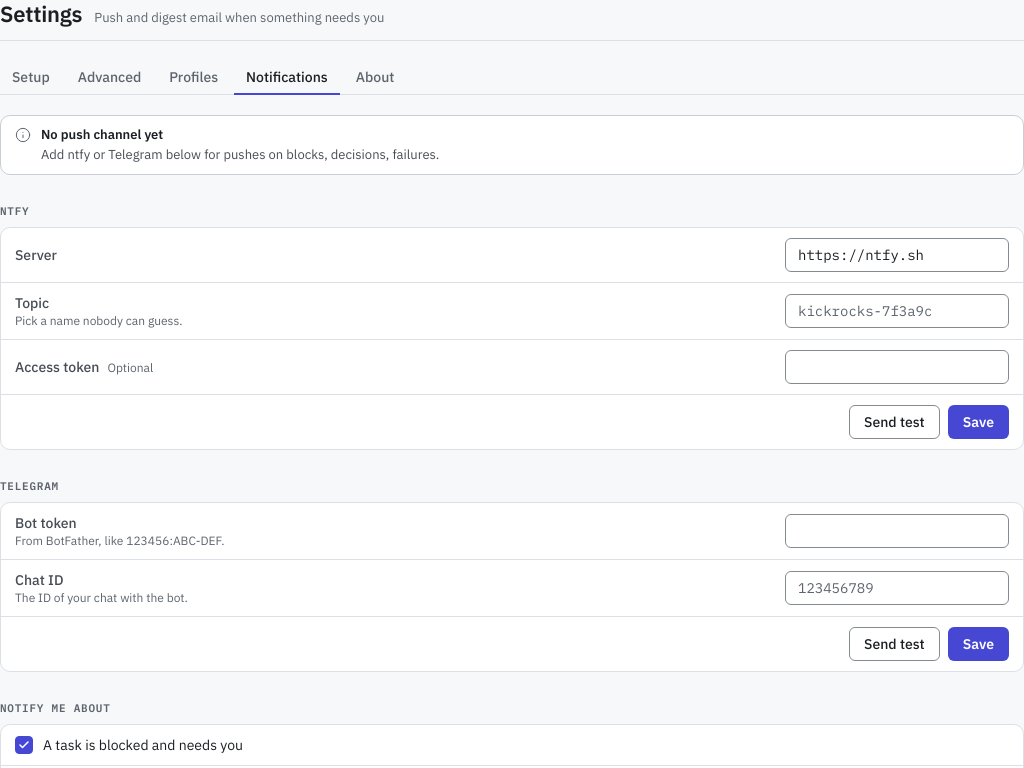
Test case: notification settings page › saves Telegram and checks the token shape first
Type "42" into the field labelled "Chat ID" at (897, 588), box [785, 571, 1009, 605]
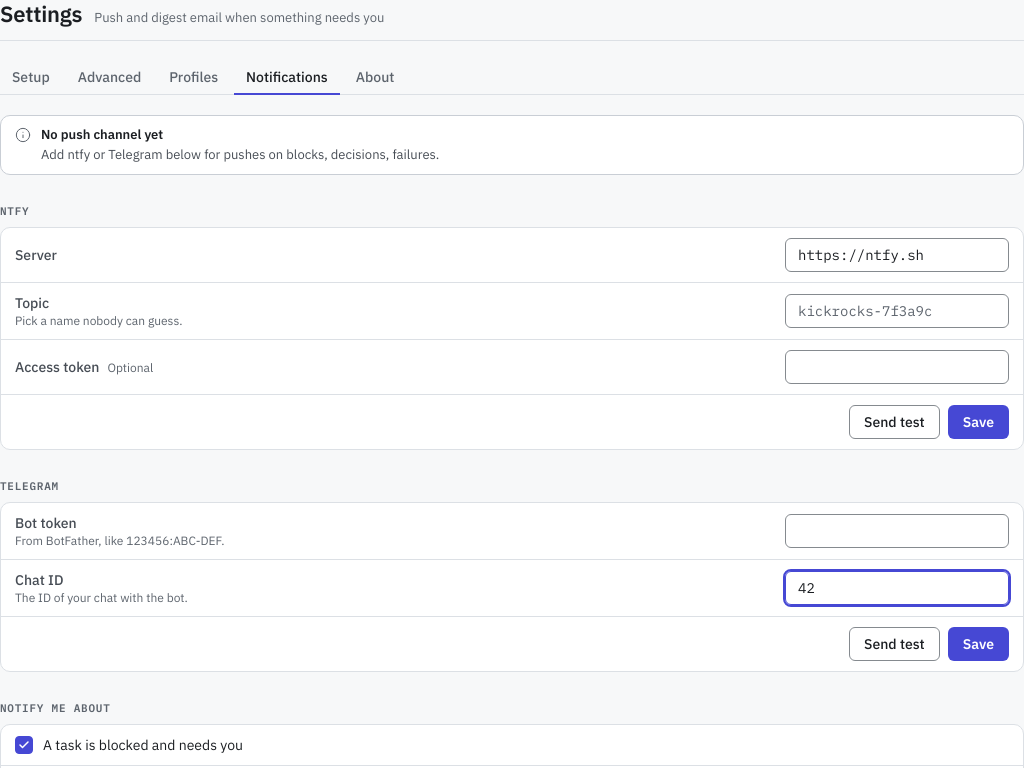
Type "nope" into the password field labelled "Bot token" at (897, 531), box [785, 514, 1009, 548]
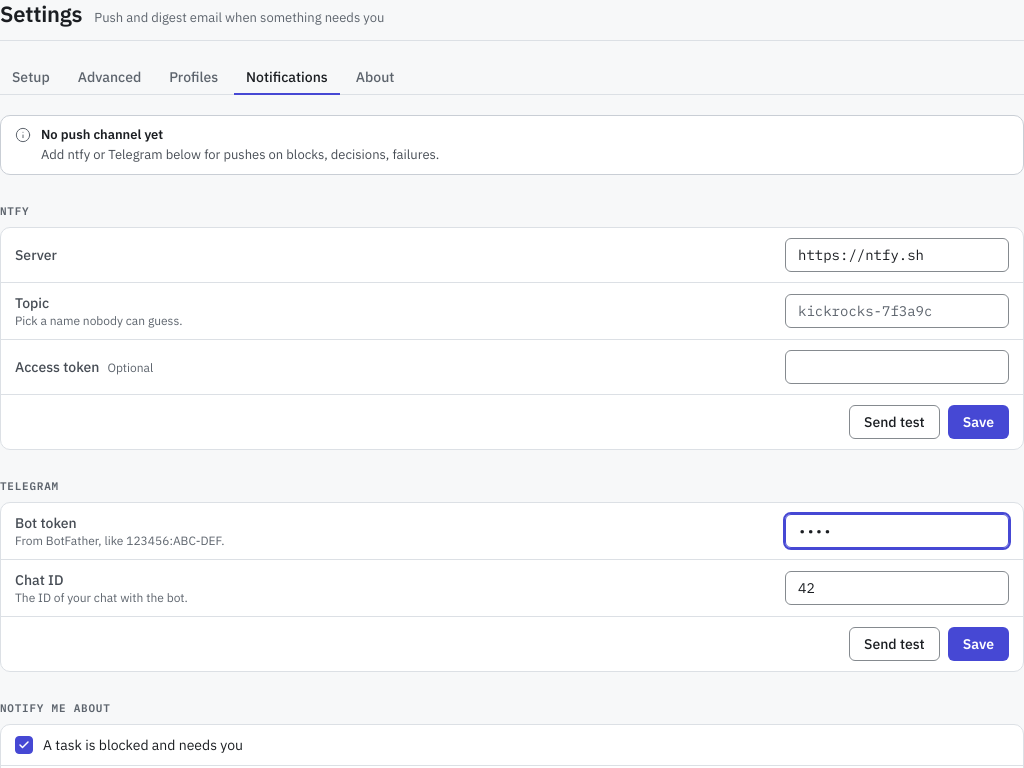
Click the button with aria-label "Save Telegram" at (978, 644), box [948, 627, 1009, 661]
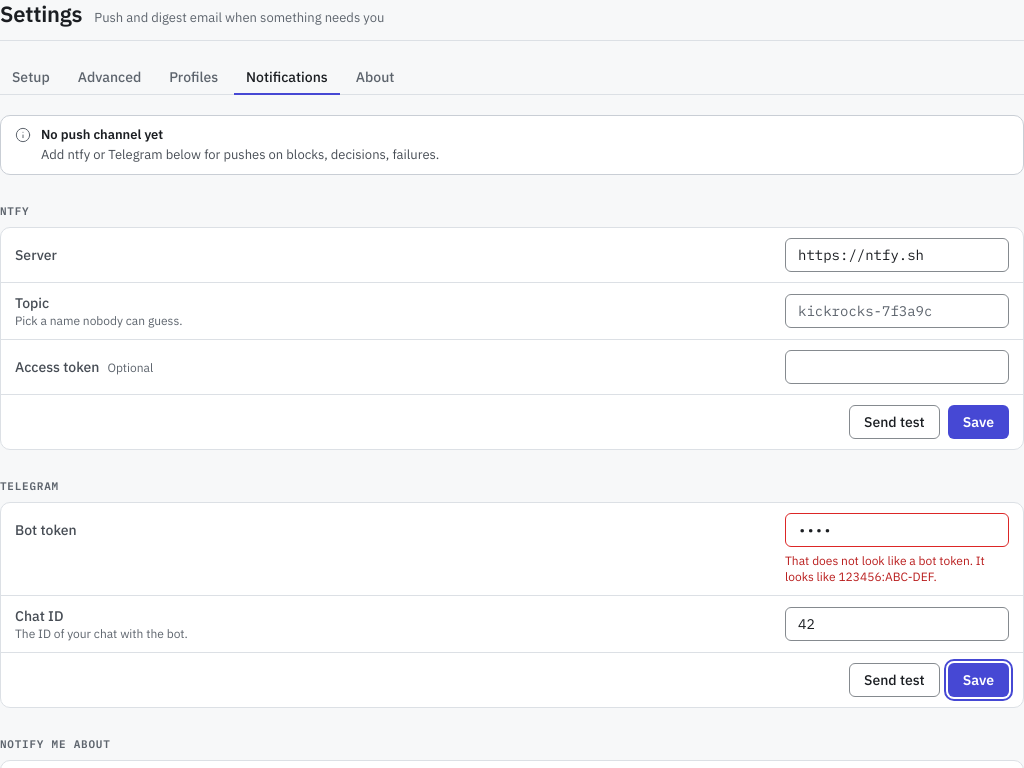
Now the text "That does not look like a bot token. It looks like 123456:ABC-DEF." is shown, box [785, 553, 1009, 585]
Type "123456789:AAExampleTokenValue_abcdefghijklmnop" into the password field labelled "Bot token" at (897, 530), box [785, 513, 1009, 547]
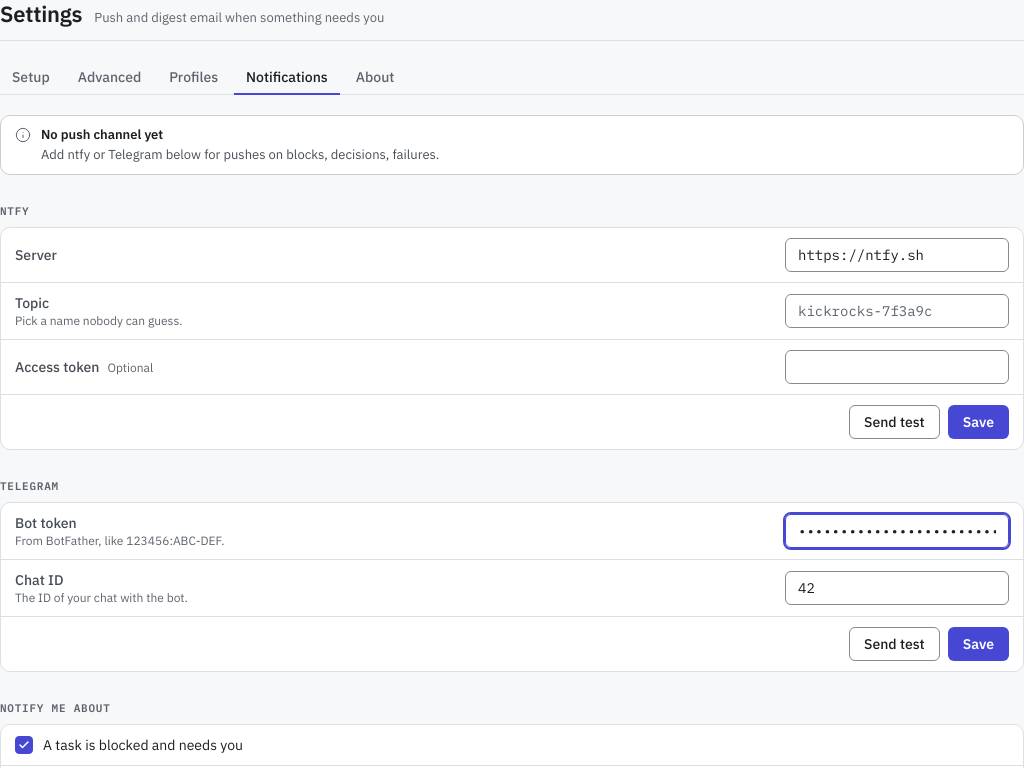
Click the button with aria-label "Save Telegram" at (978, 644), box [948, 627, 1009, 661]
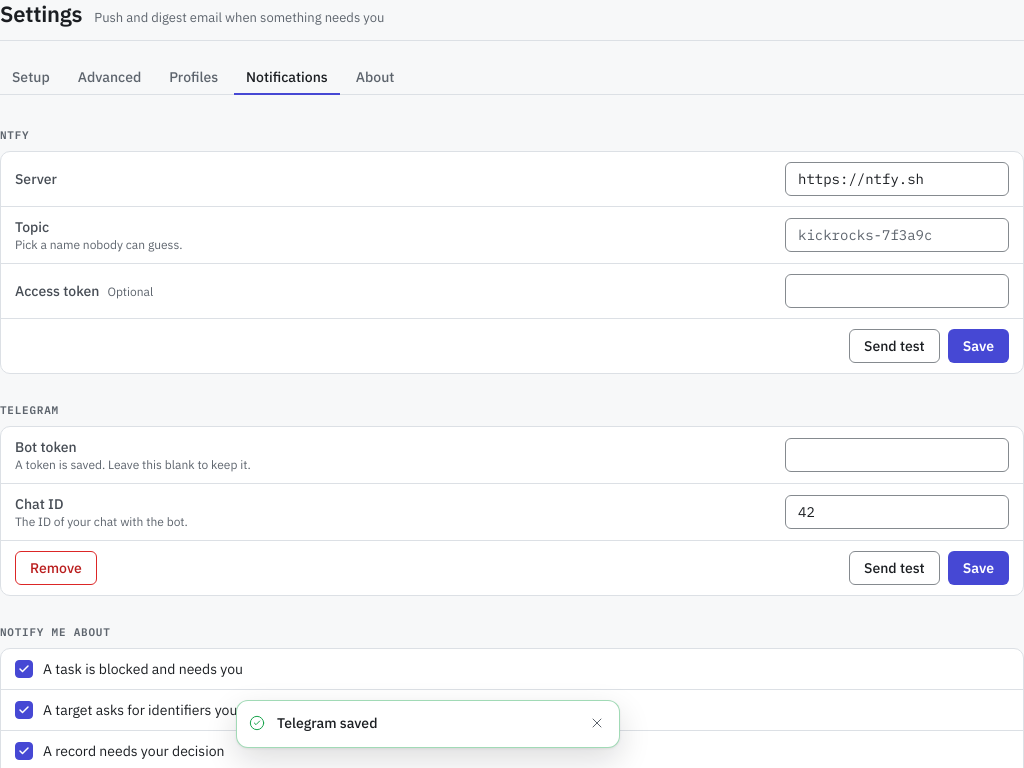
Now the text "A token is saved. Leave this blank to keep it." is shown, box [15, 457, 251, 472]
